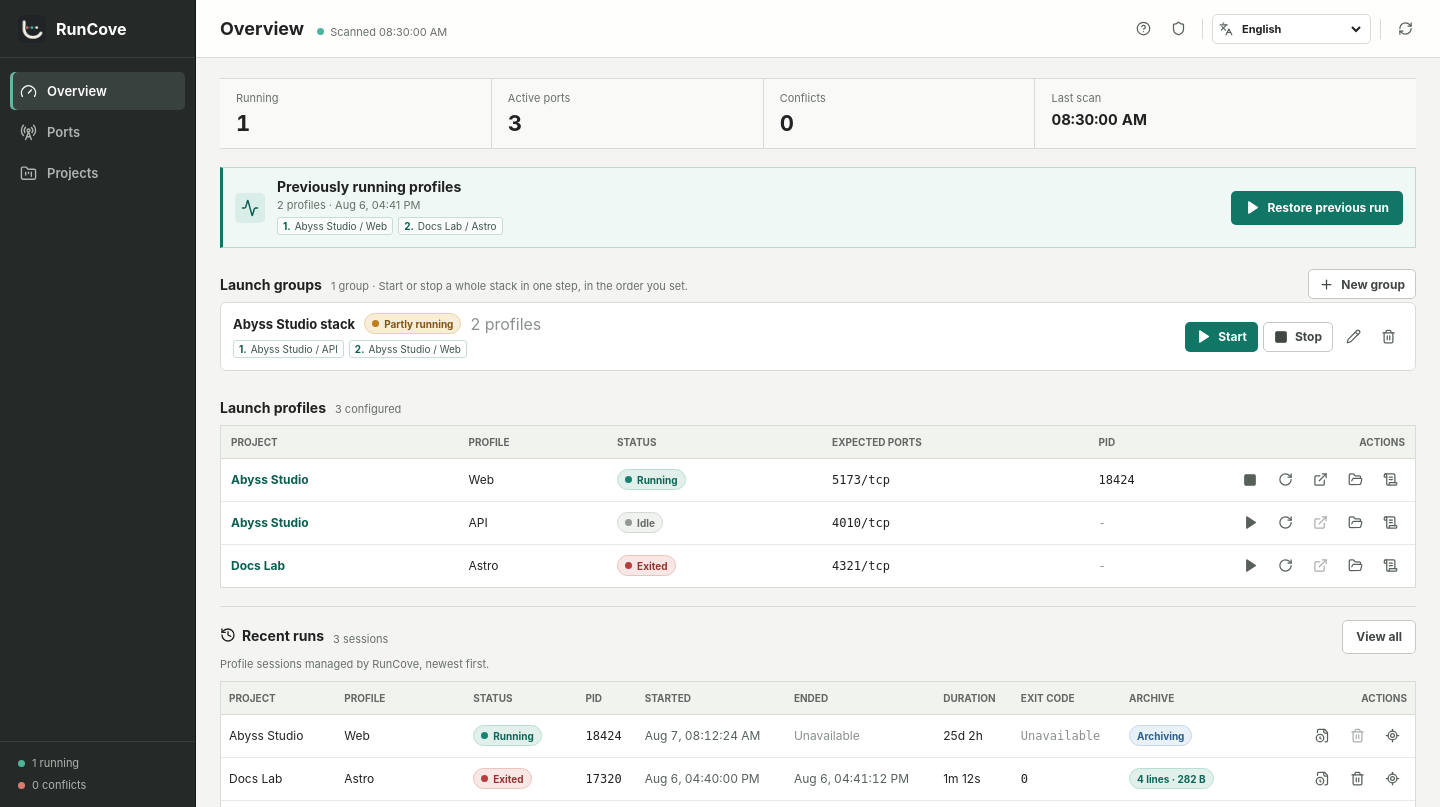
RunCove launch groups › counts the members a whole-group stop could not stop and names the first
This screenshot has width=1440, height=807.
Expected: the heading "Launch groups" is shown, [220,276,322,292]
Click the button with aria-label "Stop Abyss Studio stack" at (1298, 336), box [1263,322,1333,352]
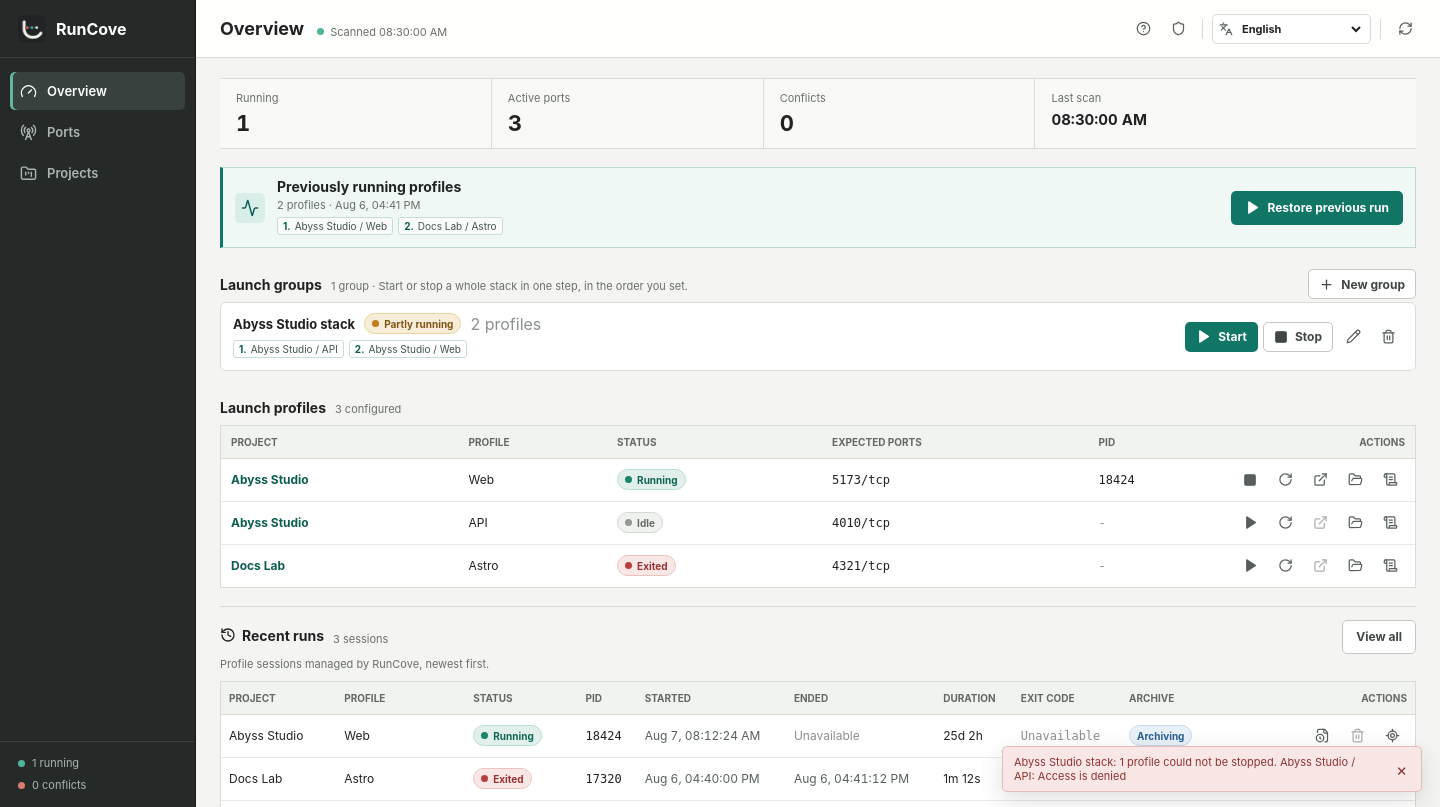
Now the message shows "Abyss Studio stack: 1 profile could not be stopped. Abyss Studio / API: Access is denied", box [1014,755,1355,783]
